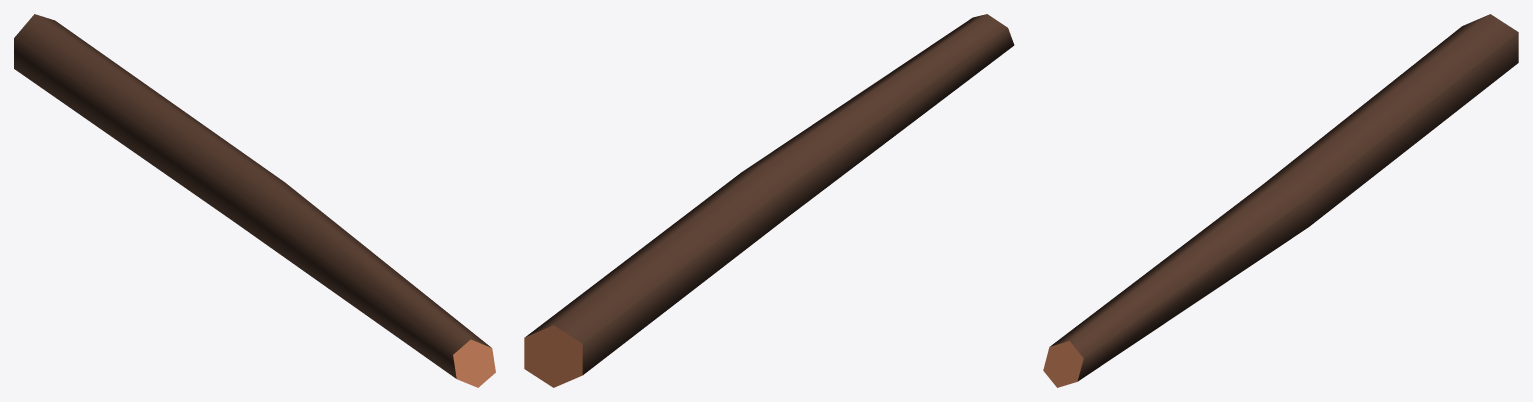
The model's file is Tree_Log_2E.fbx.
3 renders of one model, left to right at view 1: azimuth 30°, elevation 25°; view 2: azimuth 150°, elevation 25°; view 3: azimuth 330°, elevation 25°, orthographic. The views are drawn at different scales.
Parts seen in each view (by area): view 1: Tree_Log_2E; view 2: Tree_Log_2E; view 3: Tree_Log_2E.
Boxes of the visible parts, x1,y1,x2,y2 form: Tree_Log_2E: (14, 14, 495, 387); Tree_Log_2E: (524, 14, 1014, 387); Tree_Log_2E: (1043, 14, 1518, 387).
Bounding box in the file's own units: 0.285 × 0.2899 × 3.74.
